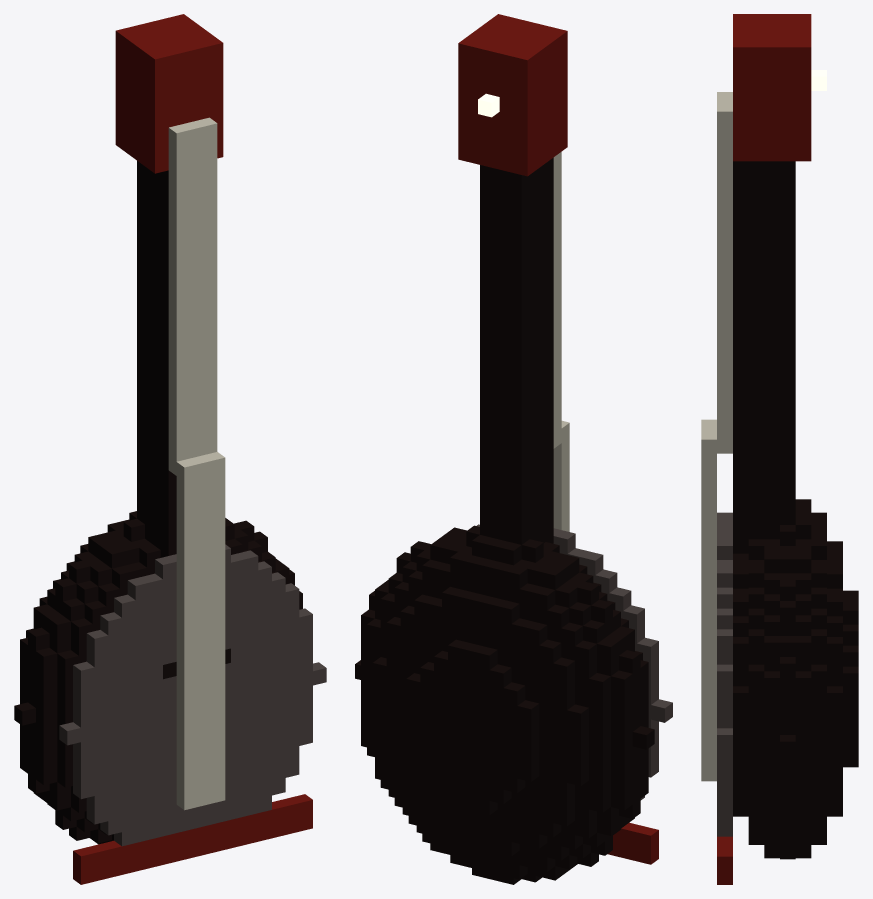
The model's file is lute_masterwork.glb.
3 views of the same model, side by side, from view 1: azimuth 30°, elevation 25°; view 2: azimuth 150°, elevation 25°; view 3: azimuth 270°, elevation 25° (orthographic).
Visible parts, largest first — view 1: lute_masterwork; view 2: lute_masterwork; view 3: lute_masterwork.
Boxes of the visible parts, left/top/right/bottom form: lute_masterwork: left=14, top=14, right=326, bottom=884; lute_masterwork: left=355, top=14, right=672, bottom=884; lute_masterwork: left=701, top=14, right=858, bottom=884.
Size of the model in its own units: 0.315 by 0.855 by 0.15.
